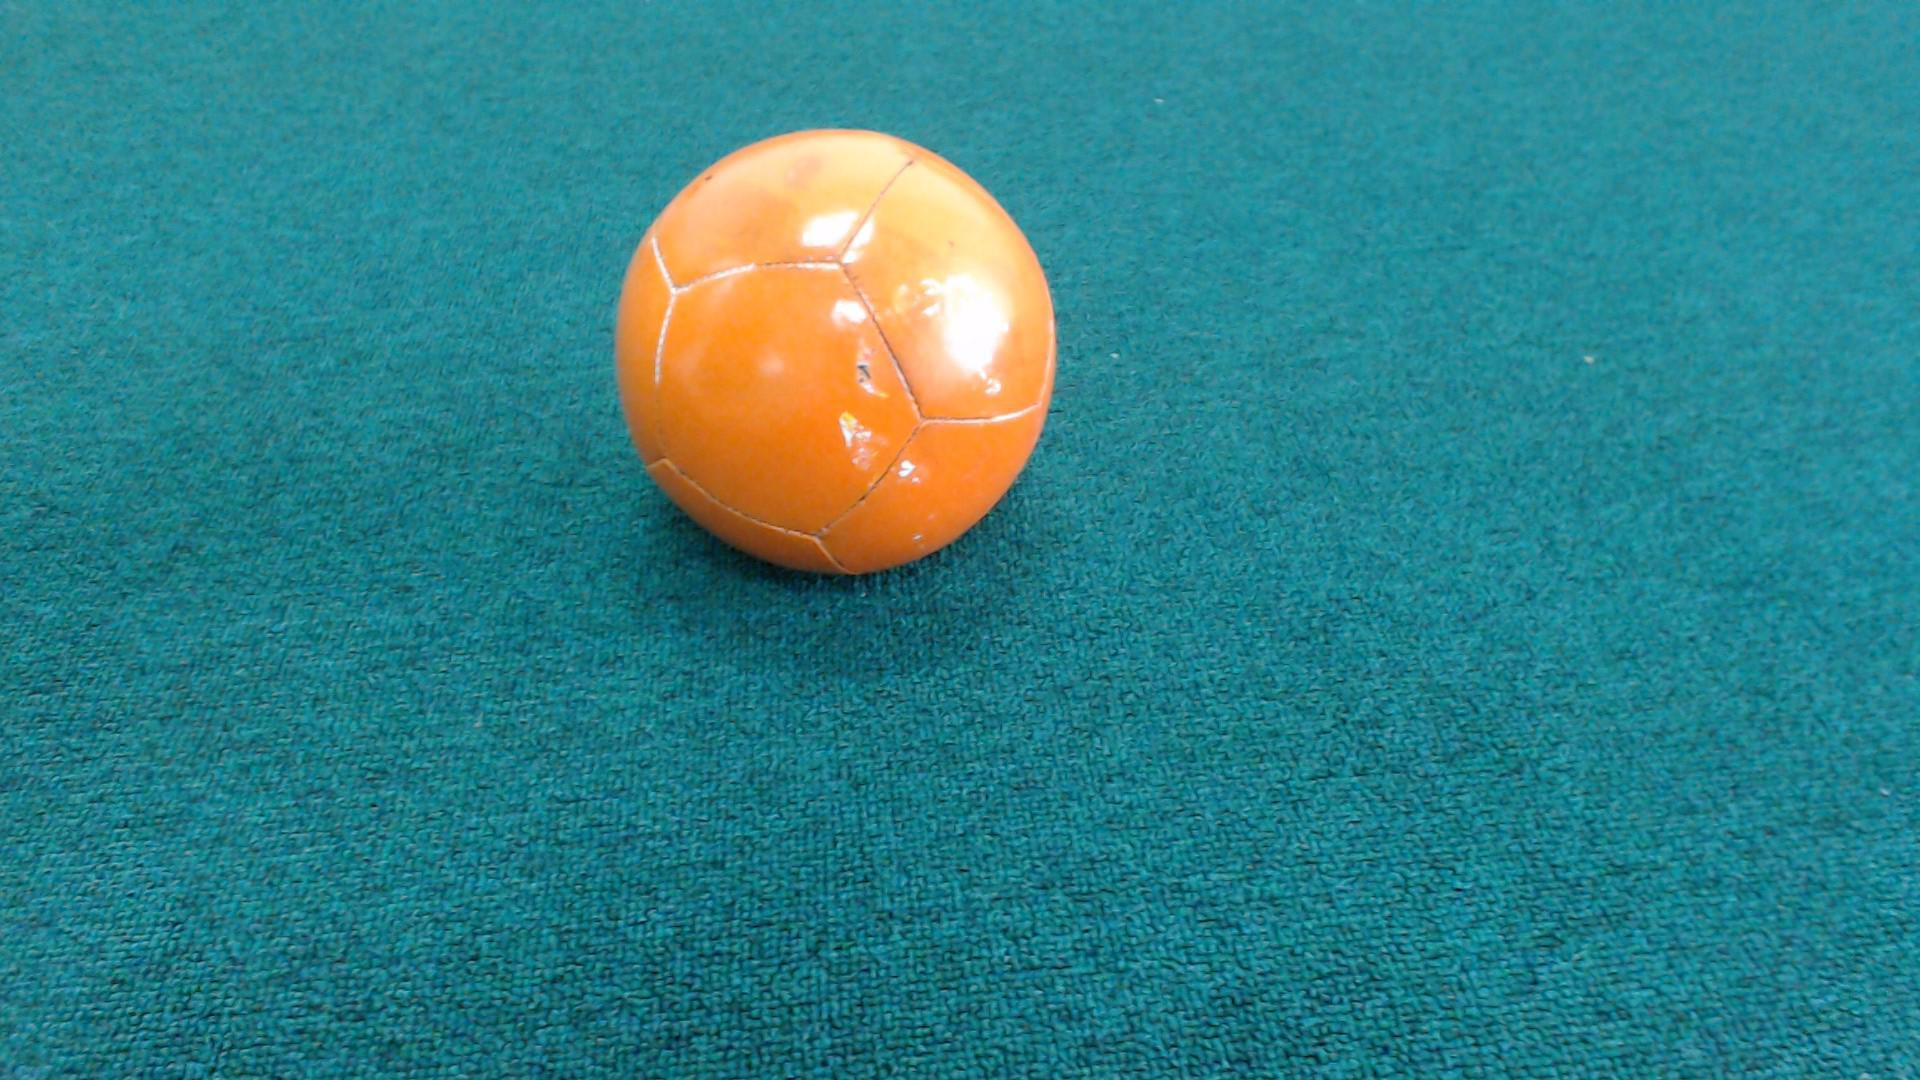bola: (582, 113, 1069, 595)
